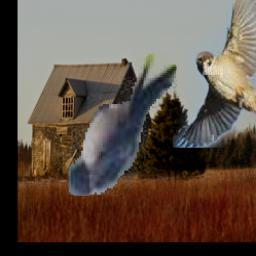Sparrow: (174, 0, 256, 149)
Swallow: (70, 52, 178, 196)
